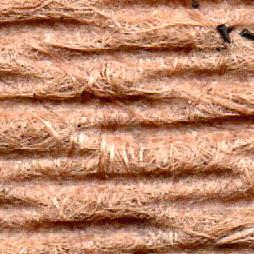egg: (218, 24, 230, 42), (241, 29, 253, 40)
